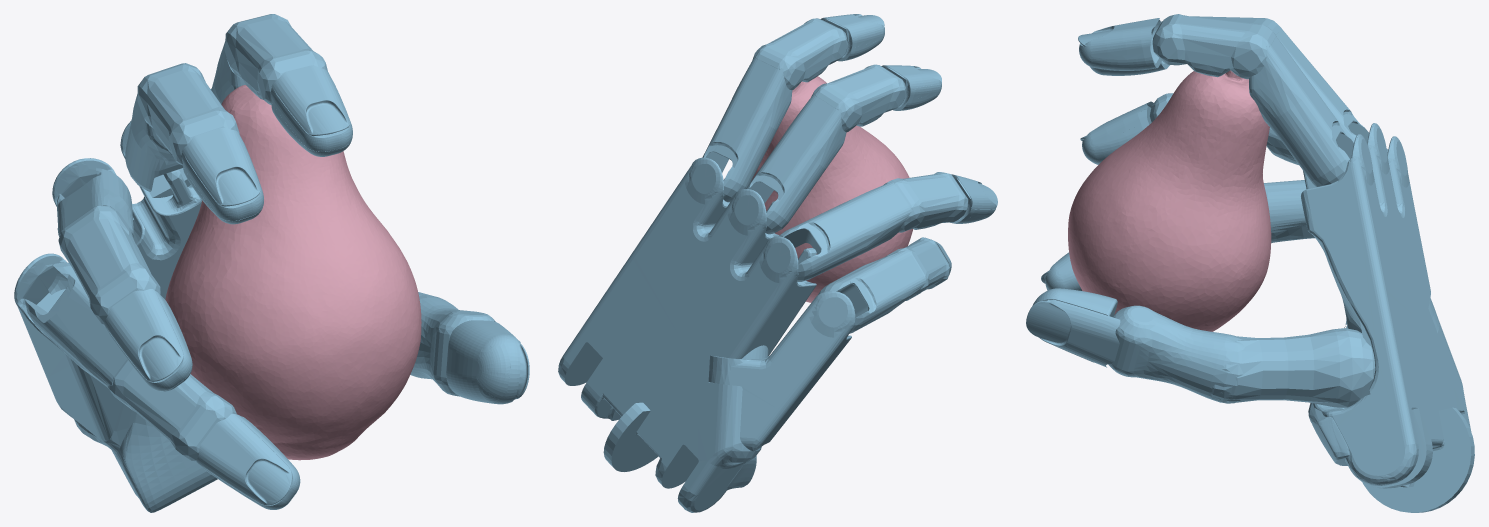
3 views of the same model, side by side, from view 1: azimuth 30°, elevation 25°; view 2: azimuth 150°, elevation 25°; view 3: azimuth 270°, elevation 25° (orthographic). The views are drawn at different scales.
Visible parts, largest first — view 1: world, pear.stl; view 2: world, pear.stl; view 3: world, pear.stl.
Boxes of the visible parts, bbox=[...] form: world: bbox=[14, 14, 529, 512]; pear.stl: bbox=[165, 85, 421, 460]; world: bbox=[558, 14, 997, 512]; pear.stl: bbox=[751, 76, 913, 302]; world: bbox=[1026, 14, 1474, 512]; pear.stl: bbox=[1068, 70, 1271, 331].
Size of the model in its own units: 0.1313 by 0.1652 by 0.145.
